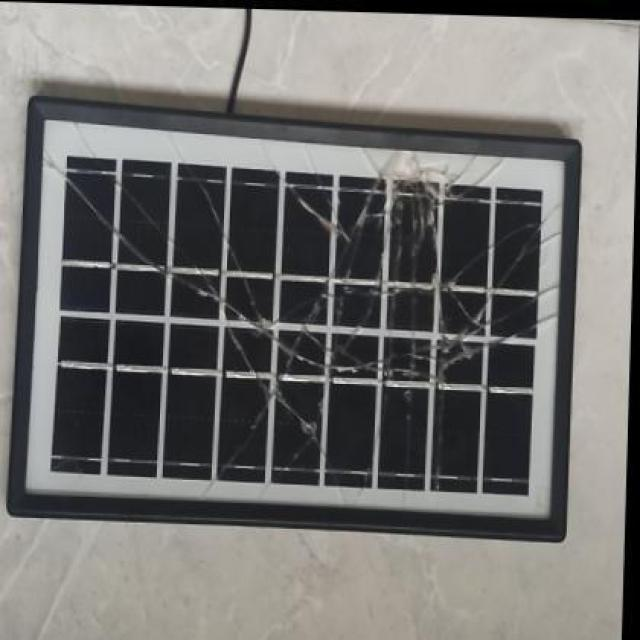cracked: (11, 99, 588, 547)
